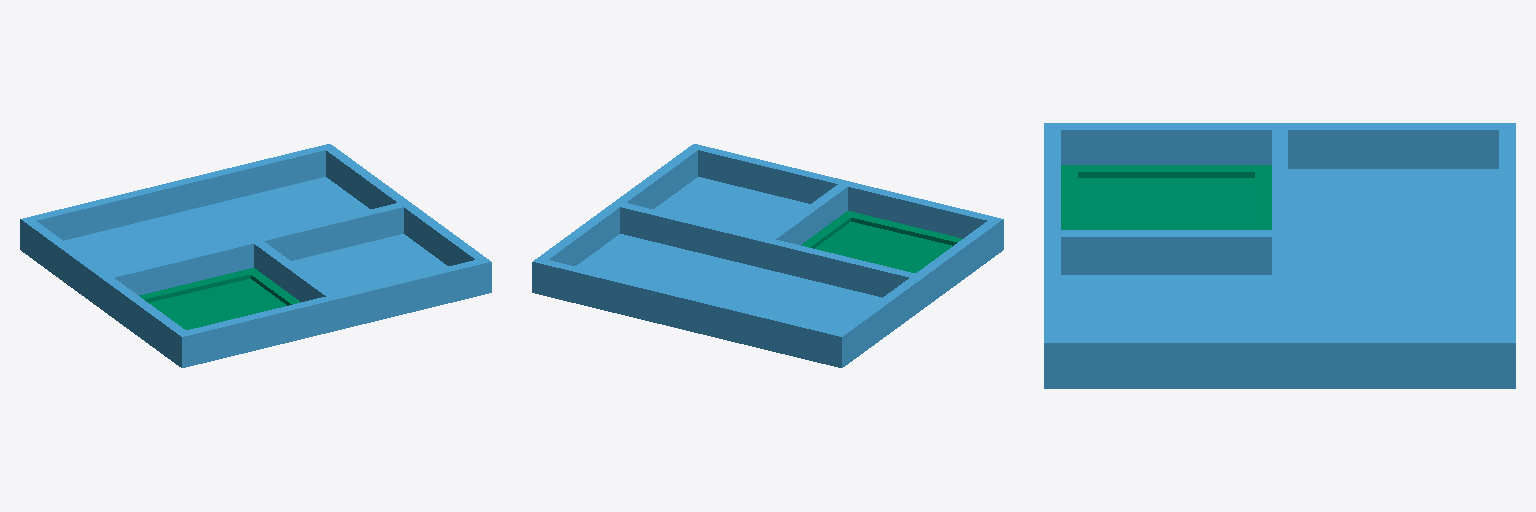
robot.urdf — window:
<?xml version="1.0" ?>
<robot name="window">
	<link name="base"/>
	<link name="link_0">
		<visual name="out-frame">
			<origin xyz="0 0 0"/>
			<geometry>
				<mesh filename="texture_dae/untitled.dae" scale="0.8 0.8 0.8"/>
			</geometry>
		</visual>
		<collision>
			<origin xyz="0 0 0"/>
			<geometry>
				<mesh filename="texture_dae/untitled.dae" scale="0.8 0.8 0.8"/>
			</geometry>
		</collision>
	</link>
	<joint name="joint_0" type="fixed">
		<origin rpy="1.570796326794897 0 -1.570796326794897" xyz="0 0 0"/>
		<child link="link_0"/>
		<parent link="base"/>
	</joint>
	<link name="link_1">
		<visual name="surf-board">
			<origin xyz="0.250684404745698 -0.27490269327414435 0"/>
			<geometry>
				<mesh filename="texture_dae/untitled1.dae" scale="0.8 0.8 0.8"/>
			</geometry>
		</visual>
		<collision>
			<origin xyz="0.250684404745698 -0.27490269327414435 0"/>
			<geometry>
				<mesh filename="texture_dae/untitled1.dae" scale="0.8 0.8 0.8"/>
			</geometry>
		</collision>
	</link>
	<joint name="joint_1" type="revolute">
		<origin xyz="-0.250684404745698 0.27490269327414435 0"/>
		<axis xyz="0 -1 0"/>
		<child link="link_1"/>
		<parent link="link_0"/>
		<limit lower="0" upper="1.5079644737231006"/>
	</joint>
	<link name="link_2">
		<visual name="handle">
			<origin xyz="0 0 0"/>
			<geometry>
				<mesh filename="texture_dae/9969507-handle.dae" scale="1.1937627076143238 1.1937627076143238 1.1937627076143238"/>
			</geometry>
		</visual>
		<collision>
			<origin xyz="0 0 0"/>
			<geometry>
				<mesh filename="texture_dae/9969507-handle.dae" scale="1.1937627076143238 1.1937627076143238 1.1937627076143238"/>
			</geometry>
		</collision>
	</link>
	<joint name="joint_2" type="revolute">
		<origin xyz="0 0 0"/>
		<child link="link_2"/>
		<parent link="link_3"/>
		<axis xyz="0 0 1"/>
		<limit lower="0" upper="1.5079644737231006"/>
	</joint>
	<link name="link_3">
		<visual name="lock">
			<origin xyz="0 0 0"/>
			<geometry>
				<mesh filename="texture_dae/9969507-lock.dae" scale="1.1937627076143238 1.1937627076143238 1.1937627076143238"/>
			</geometry>
		</visual>
		<collision>
			<origin xyz="0 0 0"/>
			<geometry>
				<mesh filename="texture_dae/9969507-lock.dae" scale="1.1937627076143238 1.1937627076143238 1.1937627076143238"/>
			</geometry>
		</collision>
	</link>
	<joint name="joint_3" type="fixed">
		<origin xyz="0.46308958053588867 -0.27490269327414435 0.013127147393712525"/>
		<child link="link_3"/>
		<parent link="link_1"/>
	</joint>
</robot>

--- Render facts (derived) ---
Views: 3 orthographic renders of the robot side by side, from view 1: azimuth 30°, elevation 25°; view 2: azimuth 150°, elevation 25°; view 3: azimuth 270°, elevation 25°.
Robot: window — 5 links, 4 joints (2 revolute, 2 fixed); root link base; default pose: every joint at zero.
Links seen in each view (by area): view 1: link_0, link_1; view 2: link_0, link_1; view 3: link_0, link_1.
Link boxes in pixels (box(x1,y1,x2,y2)): link_0: box(20, 144, 491, 367); link_1: box(139, 268, 300, 329); link_0: box(532, 144, 1003, 367); link_1: box(801, 211, 961, 272); link_0: box(1044, 123, 1515, 388); link_1: box(1061, 165, 1271, 229).
Size in the robot's own frame: 1.18 by 1.07 by 0.1323 metres.
Meshes: 4 distinct files referenced, 4 mesh visuals loaded (4 Collada DAE).
